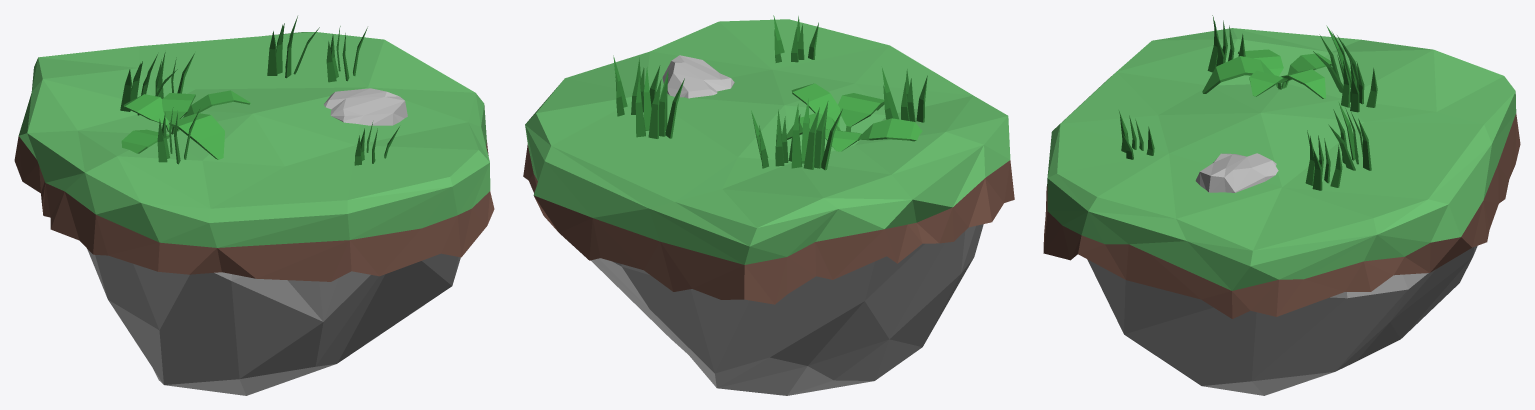
File: land-26-4.fbx
The picture shows the model from 3 angles, left to right: view 1: azimuth 30°, elevation 25°; view 2: azimuth 150°, elevation 25°; view 3: azimuth 270°, elevation 25°; orthographic projection.
Parts seen in each view (by area): view 1: polySurface12471, pCube3803, polySurface12495, polySurface12492, polySurface12494, polySurface12489, polySurface12491, polySurface12493, polySurface12490; view 2: polySurface12471, pCube3803, polySurface12495, polySurface12491, polySurface12492, polySurface12494, polySurface12490, polySurface12489, polySurface12493; view 3: polySurface12471, pCube3803, polySurface12495, polySurface12492, polySurface12490, polySurface12489, polySurface12491, polySurface12494, polySurface12493.
Part boxes in pixels (box(x1,y1,x2,y2)): polySurface12471: box(14, 32, 494, 395); pCube3803: box(121, 90, 250, 159); polySurface12495: box(323, 88, 407, 125); polySurface12492: box(267, 16, 319, 78); polySurface12494: box(157, 107, 199, 164); polySurface12489: box(326, 26, 367, 82); polySurface12491: box(120, 54, 177, 115); polySurface12493: box(354, 122, 399, 165); polySurface12490: box(155, 52, 194, 98); polySurface12471: box(523, 19, 1014, 395); pCube3803: box(786, 83, 922, 151); polySurface12495: box(662, 55, 734, 98); polySurface12491: box(791, 98, 842, 170); polySurface12492: box(635, 67, 684, 138); polySurface12494: box(882, 68, 927, 122); polySurface12490: box(751, 109, 800, 168); polySurface12489: box(613, 55, 660, 116); polySurface12493: box(773, 15, 818, 62); polySurface12471: box(1043, 28, 1520, 395); pCube3803: box(1202, 49, 1336, 98); polySurface12495: box(1195, 153, 1278, 192); polySurface12492: box(1328, 102, 1371, 170); polySurface12490: box(1337, 55, 1377, 112); polySurface12489: box(1305, 130, 1342, 190); polySurface12491: box(1313, 25, 1358, 93); polySurface12494: box(1207, 15, 1245, 72); polySurface12493: box(1119, 111, 1154, 159).
Size of the model in its own units: 388 by 281 by 368.
1 material, 1 textured.
